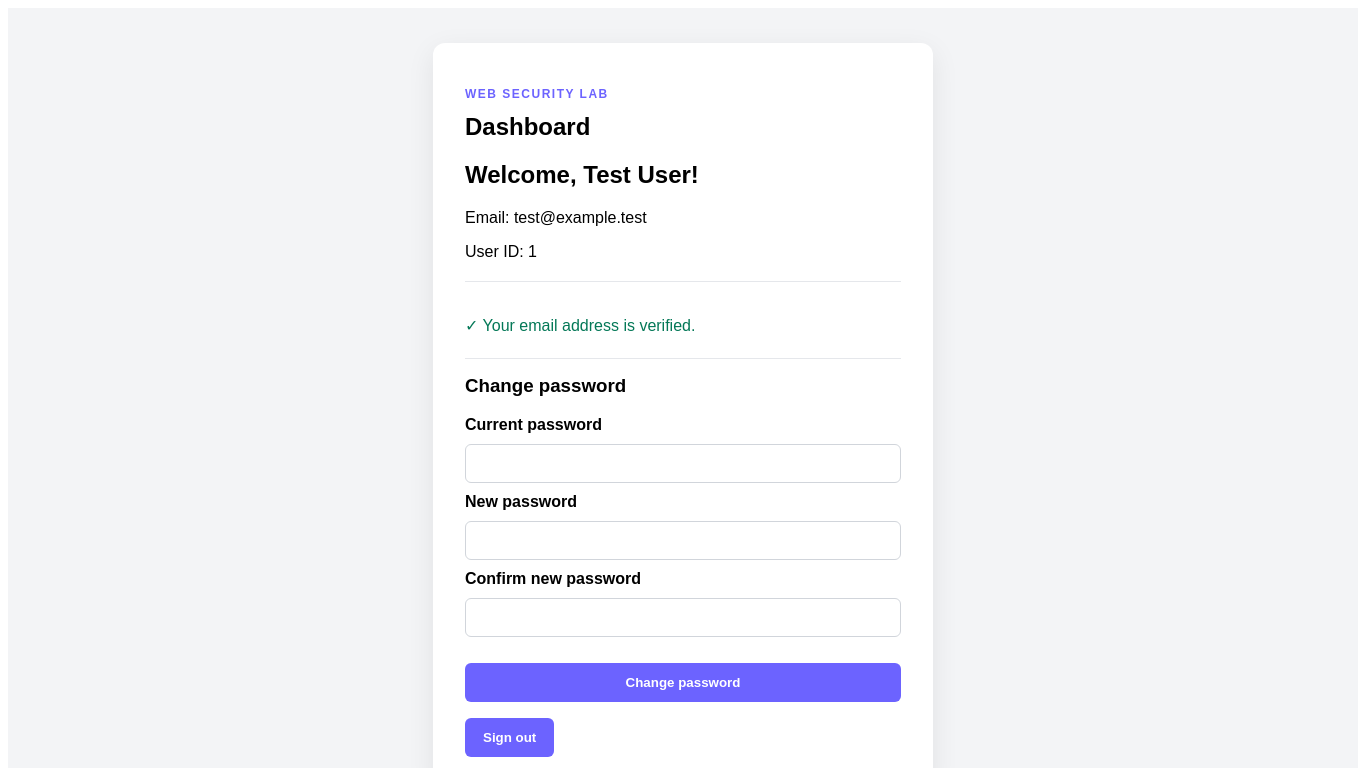
DashboardView › displays password validation errors returned by the API
This screenshot has width=1366, height=768.
Type "CurrentPass123!" into the password field with id "current-password".
click(683, 463); type("CurrentPass123!")  # box [465,444,901,483]
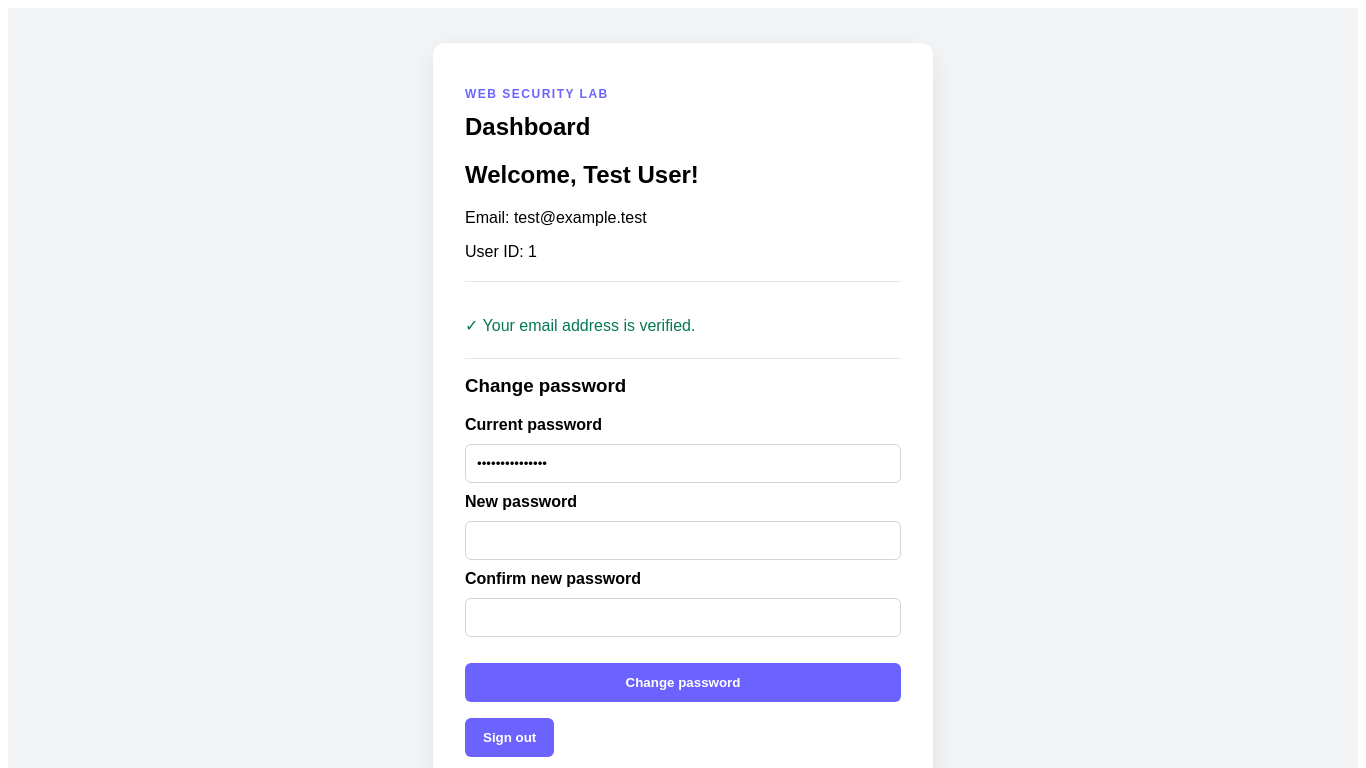
Type "NewSecurePass456!" into the password field with id "new-password".
click(683, 540); type("NewSecurePass456!")  # box [465,521,901,560]
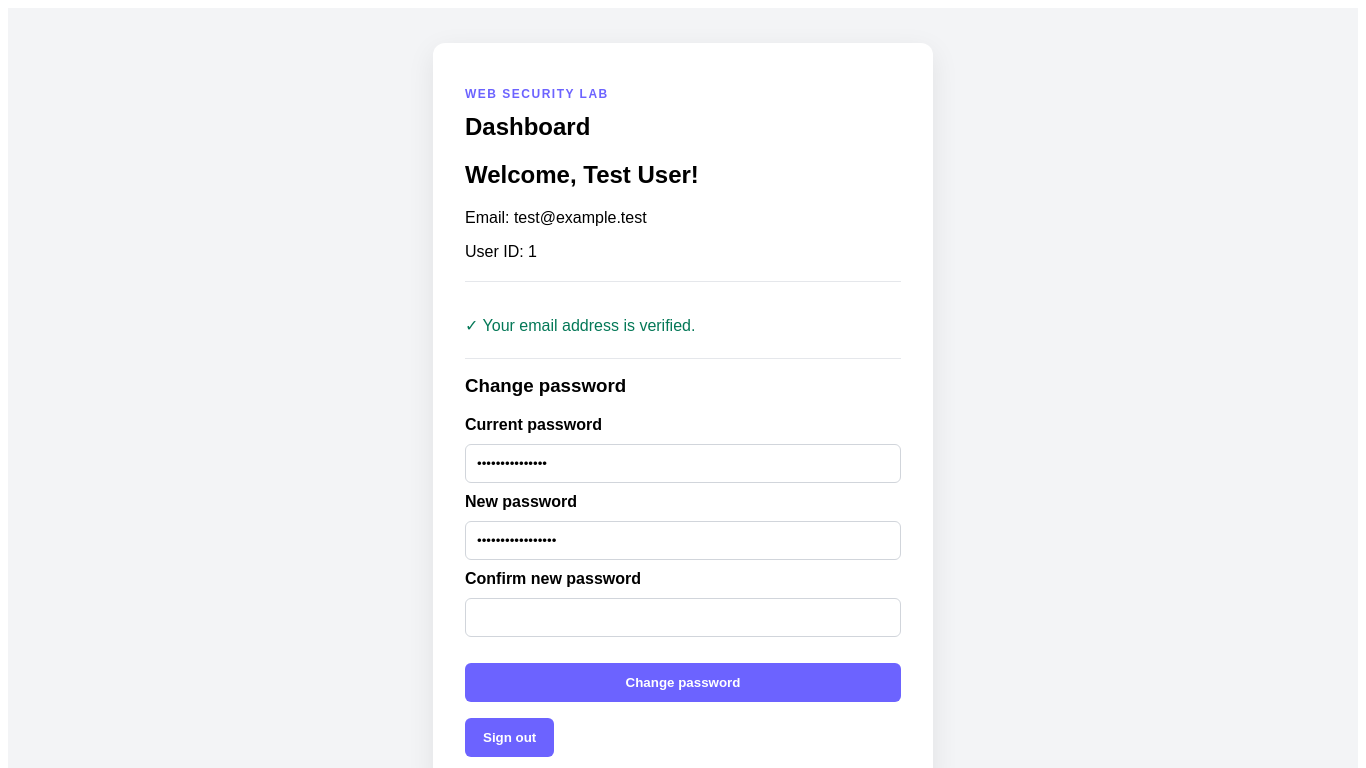
Type "NewSecurePass456!" into the password field labelled "Confirm new password".
click(683, 617); type("NewSecurePass456!")  # box [465,598,901,637]
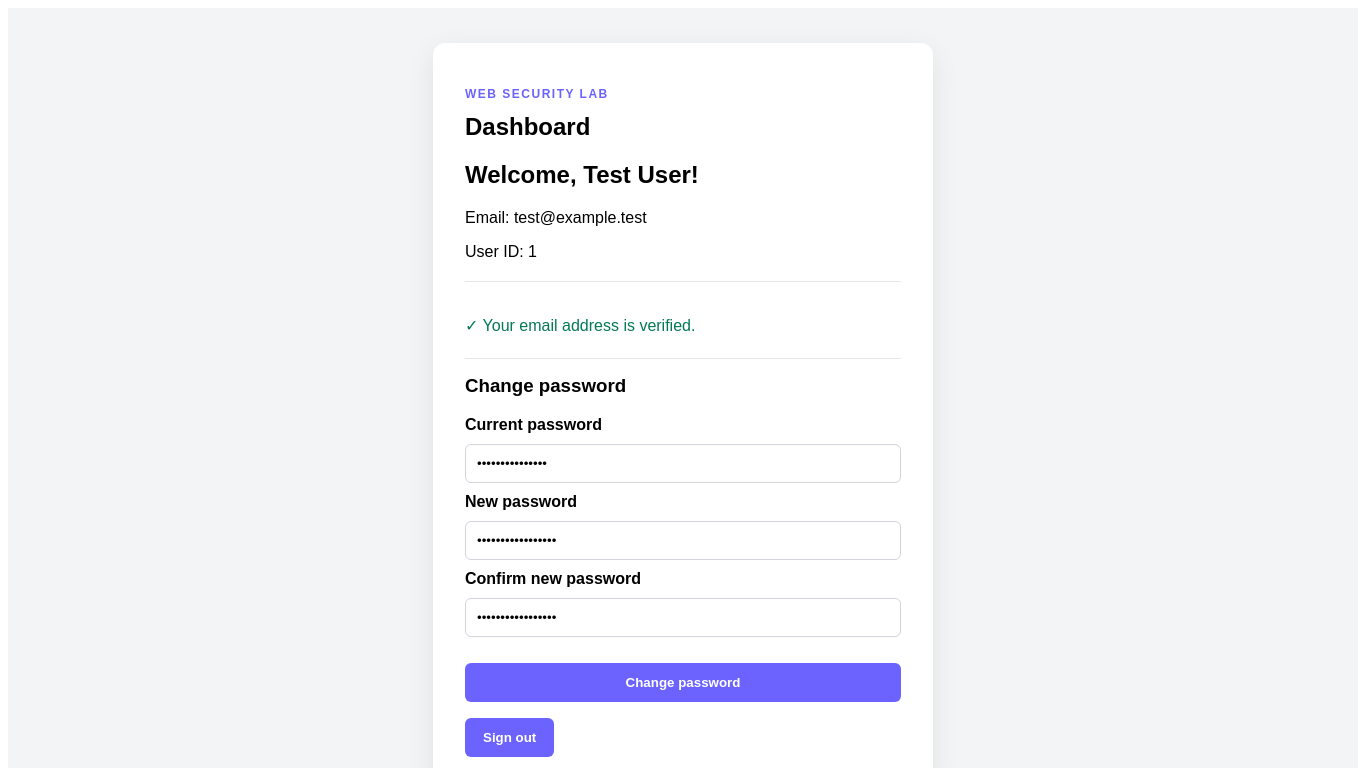
Submit the form, box [465,416,901,702]
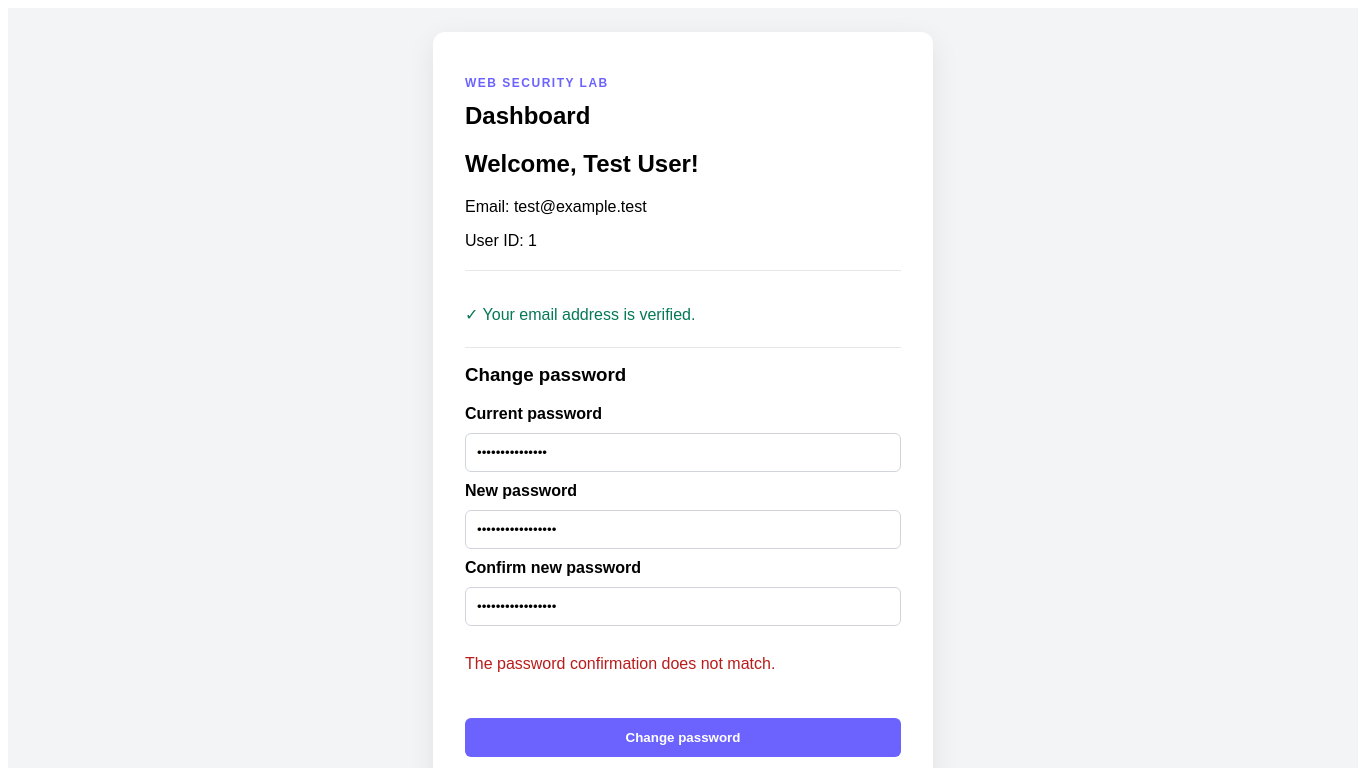
Now the text "The password confirmation does not match." is shown, box [465,654,775,672]
